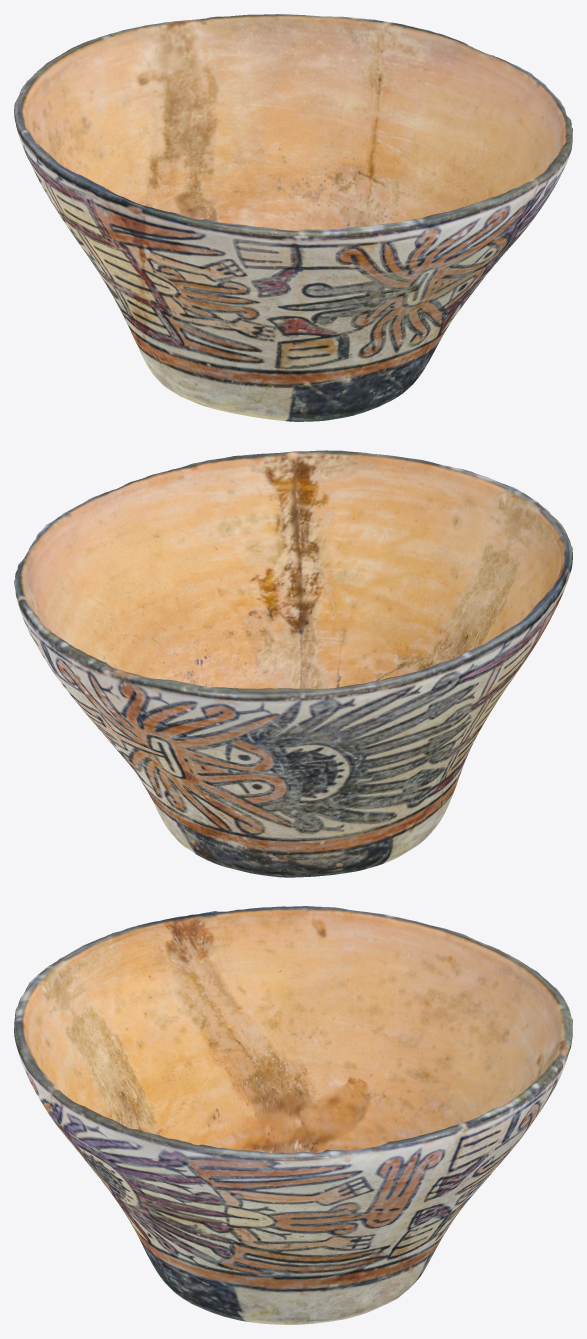
The model's file is tazon_de_ceramica_de_estilo_nasca.glb.
The picture shows the model from 3 angles, top to bottom: view 1: azimuth 30°, elevation 25°; view 2: azimuth 150°, elevation 25°; view 3: azimuth 270°, elevation 25°; orthographic projection. The views are drawn at different scales.
Parts seen in each view (by area): view 1: Model; view 2: Model; view 3: Model.
Boxes of the visible parts, <box> form: Model: <box>14,14,572,421</box>; Model: <box>14,450,572,877</box>; Model: <box>14,906,572,1324</box>.
Size of the model in its own units: 6.24 by 3.5 by 6.4.
Materials: 1 (1 with a texture image).
